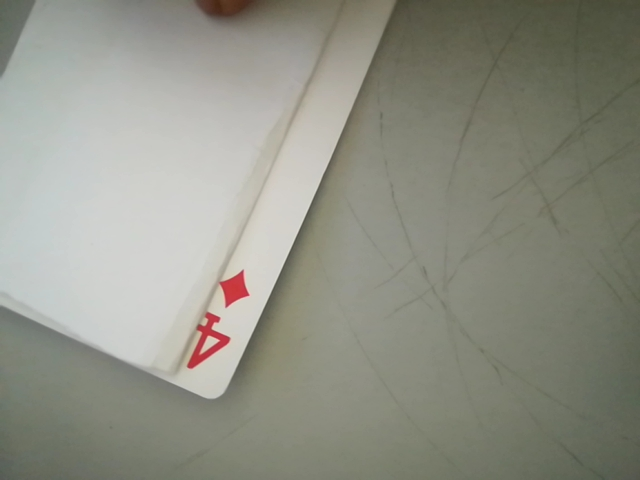fk 4: (172, 263, 261, 387)
